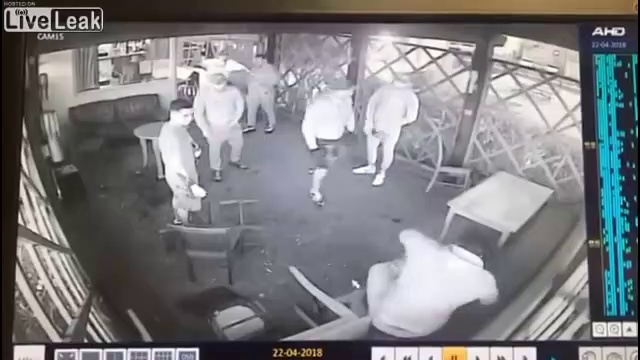normal: (296, 70, 359, 211)
